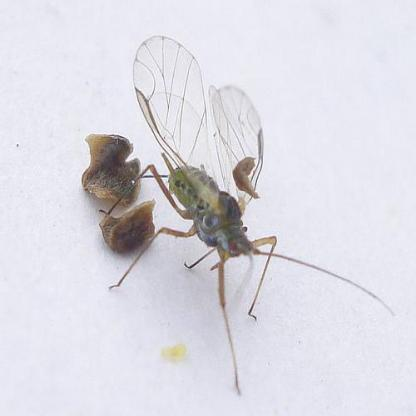aphid: (99, 28, 320, 362)
